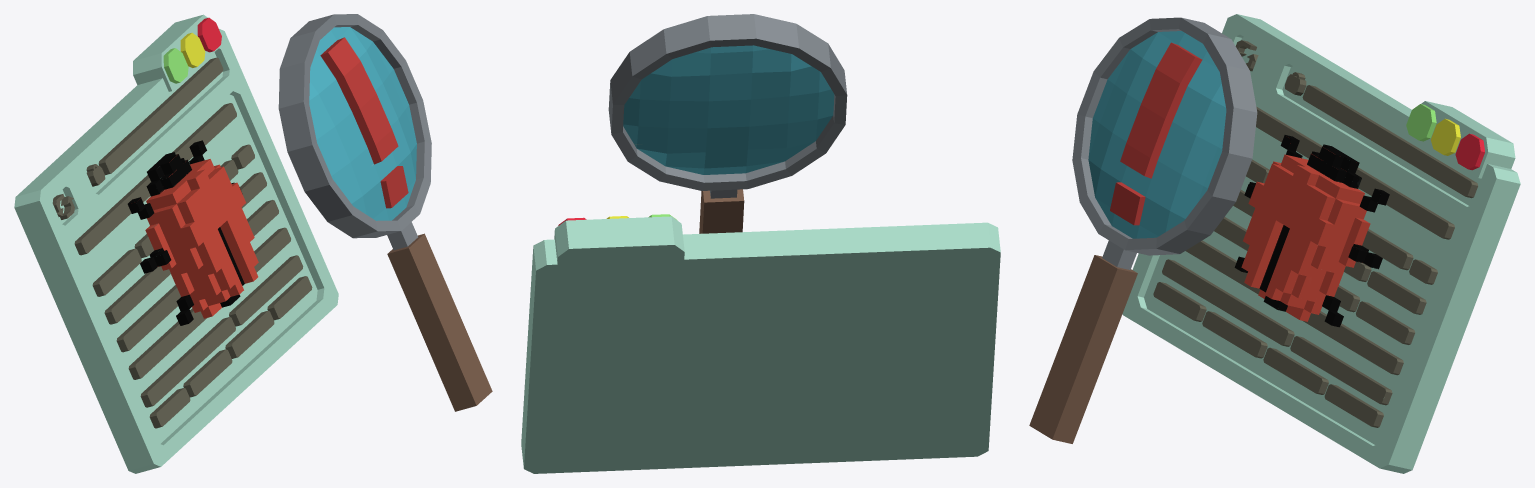
File: Hex_TestFrameworks.glb
3 views of the same model, side by side, from view 1: azimuth 30°, elevation 25°; view 2: azimuth 150°, elevation 25°; view 3: azimuth 270°, elevation 25° (orthographic). The views are drawn at different scales.
Visible parts, largest first — view 1: Page, Circle, Bug; view 2: Page, Circle; view 3: Page, Circle, Bug.
Boxes of the visible parts, x1,y1,x2,y2 form: Page: (14, 14, 338, 473); Circle: (278, 14, 492, 411); Bug: (127, 140, 258, 325); Page: (521, 214, 1000, 473); Circle: (608, 14, 847, 233); Page: (1122, 14, 1520, 473); Circle: (1029, 17, 1257, 443); Bug: (1234, 135, 1389, 327).
Size of the model in its own units: 4.4 by 4.13 by 4.55.
3 materials, 3 textured.
